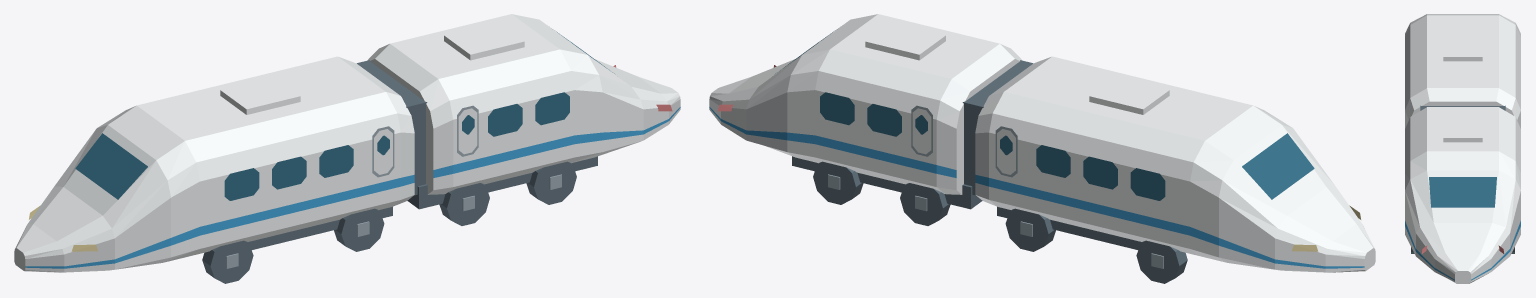
The model's file is gulligt-shinkansen.glb.
3 renders of one model, left to right at view 1: azimuth 30°, elevation 25°; view 2: azimuth 150°, elevation 25°; view 3: azimuth 270°, elevation 25°, orthographic. The views are drawn at different scales.
Visible parts, largest first — view 1: Front car, Rear car, Wheel (×4), Passenger window (×5), Roof equipment (×2), Front car blue band, Cockpit windshield, Underbody (×2), Rear car blue band, Flexible connector, Door panel (×2); view 2: Front car, Rear car, Wheel (×4), Passenger window (×5), Roof equipment (×2), Front car blue band, Cockpit windshield, Underbody (×2), Rear car blue band, Flexible connector, Door panel (×2); view 3: Rear car, Front car, Cockpit windshield, Roof equipment (×2), Rear car blue band, Flexible connector.
Boxes of the visible parts, left/top/right/bottom form: Front car: left=14, top=56, right=414, bottom=272; Rear car: left=367, top=14, right=680, bottom=194; Wheel (×4): left=202, top=161, right=576, bottom=283; Passenger window (×5): left=224, top=92, right=569, bottom=200; Roof equipment (×2): left=220, top=22, right=524, bottom=114; Front car blue band: left=25, top=174, right=414, bottom=268; Cockpit windshield: left=75, top=133, right=147, bottom=199; Underbody (×2): left=248, top=156, right=597, bottom=249; Rear car blue band: left=433, top=107, right=680, bottom=177; Flexible connector: left=357, top=60, right=427, bottom=195; Door panel (×2): left=374, top=108, right=477, bottom=174; Front car: left=975, top=56, right=1375, bottom=272; Rear car: left=709, top=14, right=1022, bottom=194; Wheel (×4): left=813, top=161, right=1187, bottom=283; Passenger window (×5): left=820, top=92, right=1165, bottom=200; Roof equipment (×2): left=865, top=22, right=1169, bottom=114; Front car blue band: left=975, top=174, right=1364, bottom=268; Cockpit windshield: left=1242, top=133, right=1314, bottom=199; Underbody (×2): left=792, top=156, right=1141, bottom=249; Rear car blue band: left=709, top=107, right=956, bottom=177; Flexible connector: left=962, top=60, right=1032, bottom=195; Door panel (×2): left=912, top=108, right=1015, bottom=174; Rear car: left=1405, top=107, right=1520, bottom=283; Front car: left=1405, top=14, right=1520, bottom=128; Cockpit windshield: left=1429, top=177, right=1496, bottom=207; Roof equipment (×2): left=1443, top=37, right=1482, bottom=142; Rear car blue band: left=1405, top=221, right=1520, bottom=280; Flexible connector: left=1420, top=105, right=1505, bottom=110.
Size of the model in its own units: 0.1552 by 0.0336 by 0.0325.
